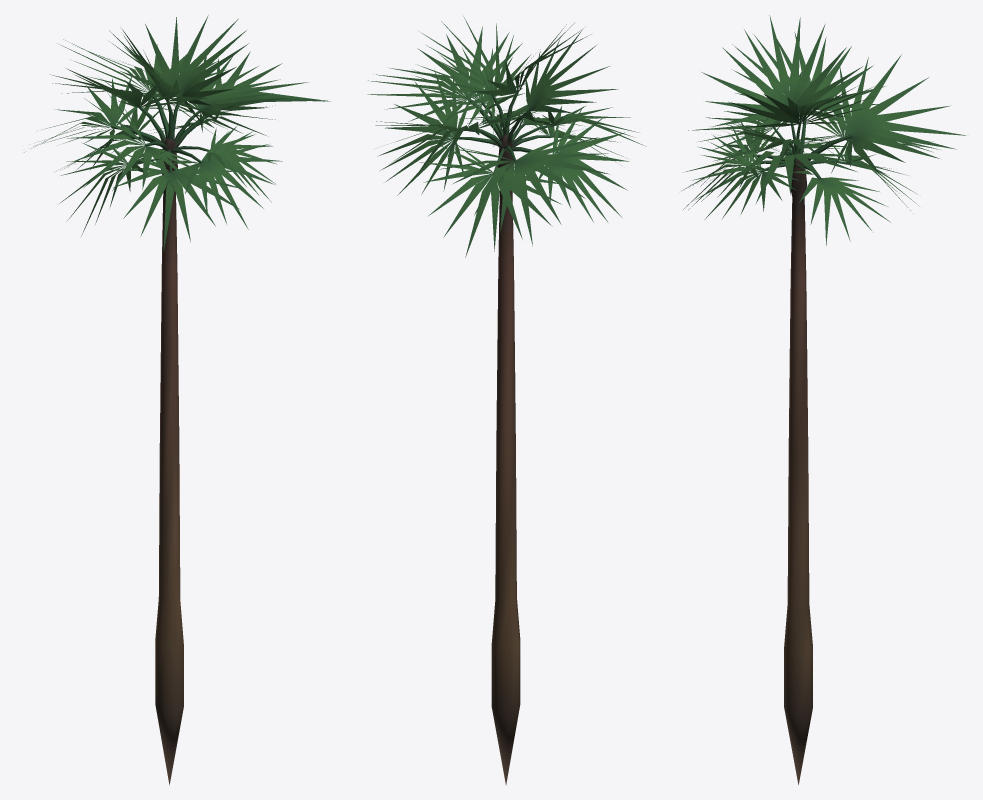
The model's file is trees-palms-ferns-tall-palm_v3.glb.
3 views of the same model, side by side, from view 1: azimuth 30°, elevation 25°; view 2: azimuth 150°, elevation 25°; view 3: azimuth 270°, elevation 25° (orthographic). The views are drawn at different scales.
Visible parts, largest first — view 1: Tall Palm_v3; view 2: Tall Palm_v3; view 3: Tall Palm_v3.
Part boxes in pixels (x1=…): Tall Palm_v3: x1=24, y1=15, x2=330, y2=785; Tall Palm_v3: x1=367, y1=16, x2=646, y2=785; Tall Palm_v3: x1=682, y1=15, x2=966, y2=784.
Bounding box in the file's own units: 7.31 × 20 × 7.13.
